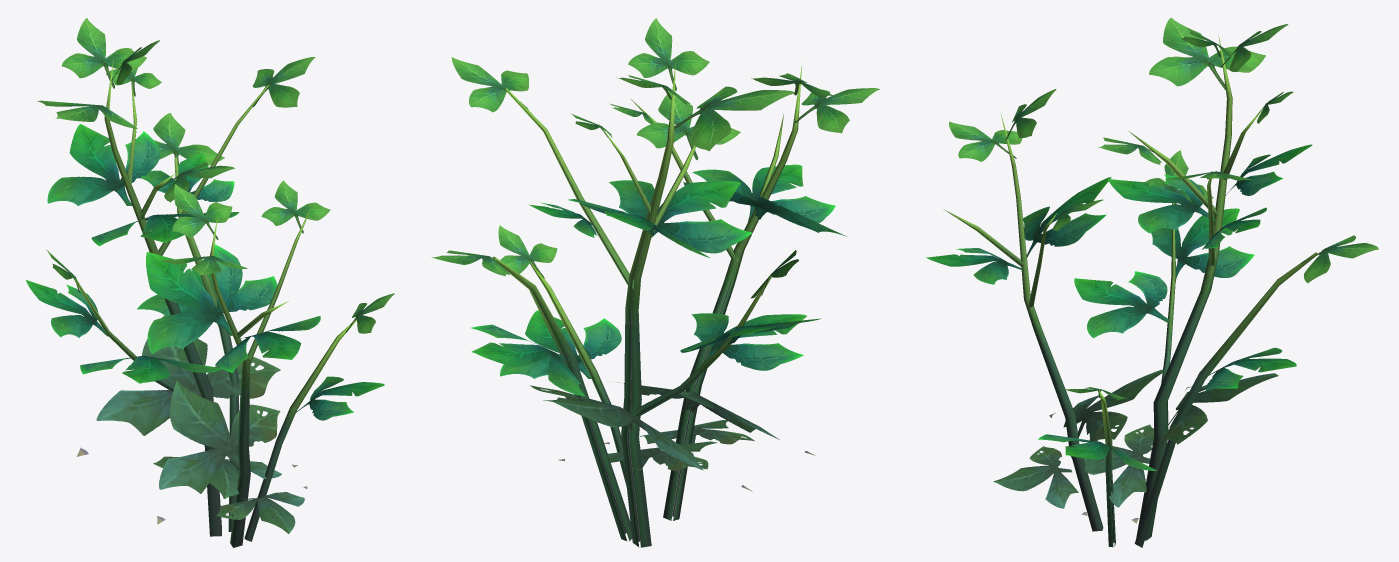
The model's file is Scene_guanmu_002.FBX.
3 views of the same model, side by side, from view 1: azimuth 30°, elevation 25°; view 2: azimuth 150°, elevation 25°; view 3: azimuth 270°, elevation 25° (orthographic). The views are drawn at different scales.
Visible parts, largest first — view 1: Scene_guanmu_002; view 2: Scene_guanmu_002; view 3: Scene_guanmu_002.
Part boxes in pixels (box(x1,y1,x2,y2)): Scene_guanmu_002: box(26, 18, 394, 547); Scene_guanmu_002: box(431, 18, 879, 547); Scene_guanmu_002: box(926, 18, 1378, 547).
Size of the model in its own units: 142 by 209 by 180.
